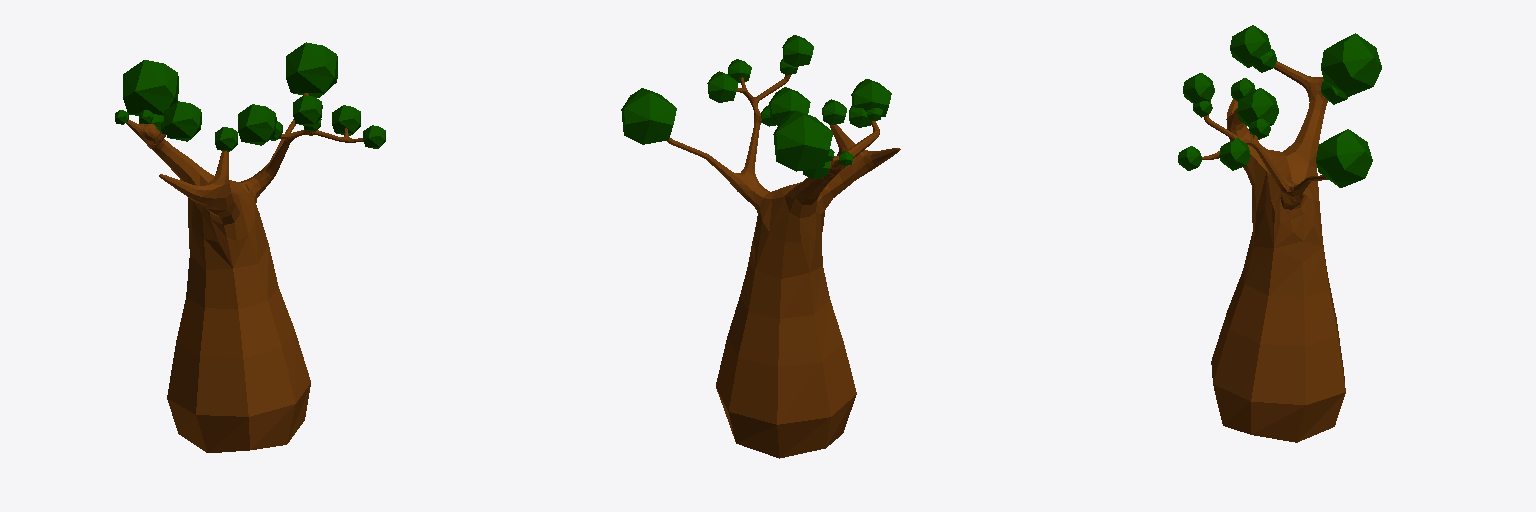
File: Planta03.obj
3 views of the same model, side by side, from view 1: azimuth 30°, elevation 25°; view 2: azimuth 150°, elevation 25°; view 3: azimuth 270°, elevation 25° (orthographic).
Visible parts, largest first — view 1: Plane.002, Icosphere.007, Icosphere.017, Icosphere.013, Icosphere, Icosphere.011, Icosphere.016; view 2: Plane.002, Icosphere.007, Icosphere.017, Icosphere, Icosphere.013, Icosphere.011, Icosphere.016; view 3: Plane.002, Icosphere.007, Icosphere.017, Icosphere, Icosphere.013, Icosphere.011, Icosphere.016.
Boxes of the visible parts, x1,y1,x2,y2 form: Plane.002: [126, 93, 363, 452]; Icosphere.007: [123, 60, 178, 115]; Icosphere.017: [286, 42, 337, 97]; Icosphere.013: [238, 104, 276, 145]; Icosphere: [164, 101, 201, 141]; Icosphere.011: [293, 95, 322, 126]; Icosphere.016: [332, 105, 360, 135]; Plane.002: [667, 75, 900, 458]; Icosphere.007: [773, 110, 832, 171]; Icosphere.017: [621, 88, 676, 144]; Icosphere: [851, 79, 891, 116]; Icosphere.013: [769, 87, 810, 125]; Icosphere.011: [782, 35, 813, 66]; Icosphere.016: [707, 71, 738, 102]; Plane.002: [1202, 61, 1345, 442]; Icosphere.007: [1321, 33, 1381, 96]; Icosphere.017: [1316, 129, 1372, 187]; Icosphere: [1230, 25, 1270, 67]; Icosphere.013: [1237, 88, 1278, 126]; Icosphere.011: [1183, 73, 1214, 103]; Icosphere.016: [1219, 138, 1250, 170].
Size of the model in its own units: 3.59 by 5.64 by 2.78.